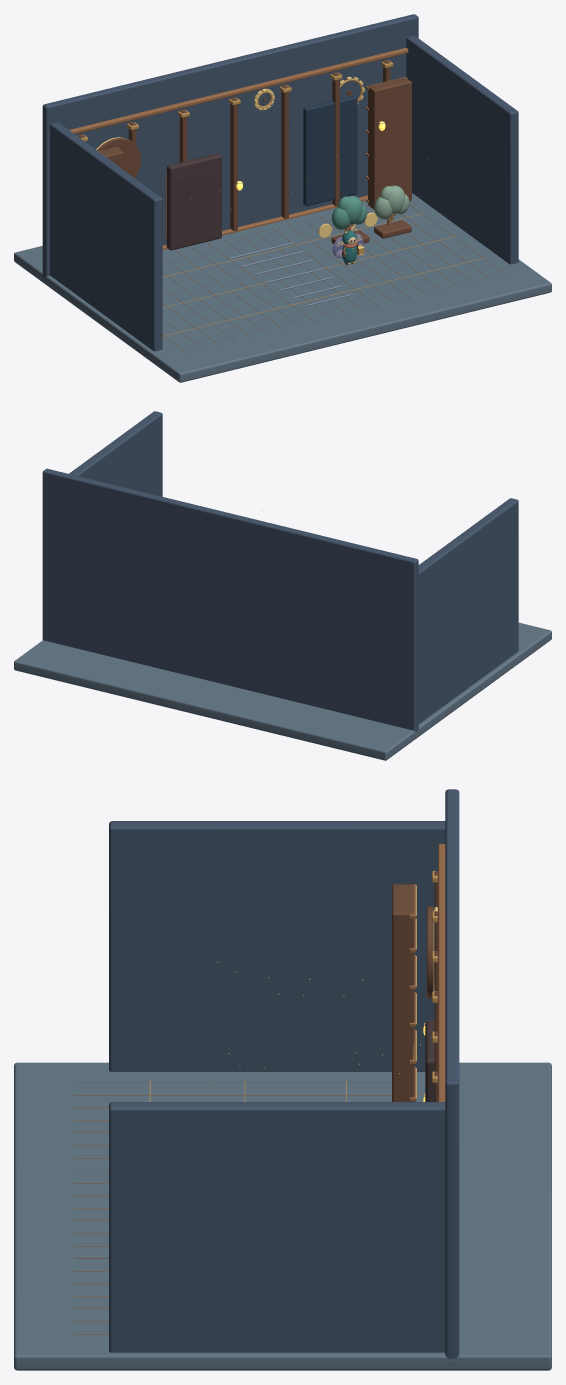
Rendered from moon_archive.glb.
3 renders of one model, top to bottom at view 1: azimuth 30°, elevation 25°; view 2: azimuth 150°, elevation 25°; view 3: azimuth 270°, elevation 25°, orthographic. The views are drawn at different scales.
Parts seen in each view (by area): view 1: Archive floor, Rear wall, Left side wall, Right side wall, Tall storm window recess, Tall archive bookcase.001, Monumental door shadow, Carved wall rail.001, Tall wall pilaster.004, Tall wall pilaster.003, Clock dark backing, Tall wall pilaster.005 (+2 smaller); view 2: Rear wall, Archive floor, Left side wall, Right side wall; view 3: Right side wall, Left side wall, Archive floor, Rear wall, Tall archive bookcase, Carved wall rail.001, Monumental door shadow.
Part boxes in pixels (x1,y1,x2,y2): Archive floor: (14,193,551,382); Rear wall: (42,14,418,280); Left side wall: (50,122,162,351); Right side wall: (406,35,518,264); Tall storm window recess: (303,95,357,206); Tall archive bookcase.001: (368,77,411,209); Monumental door shadow: (166,153,221,250); Carved wall rail.001: (69,47,408,134); Tall wall pilaster.004: (281,84,288,218); Tall wall pilaster.003: (230,97,237,230); Clock dark backing: (97,138,140,177); Tall wall pilaster.005: (332,72,339,206); Rear wall: (42,468,418,731); Archive floor: (14,622,551,760); Left side wall: (418,498,518,723); Right side wall: (69,411,162,496); Right side wall: (109,1102,445,1352); Left side wall: (109,821,445,1071); Archive floor: (14,1062,551,1370); Rear wall: (445,789,459,1365); Tall archive bookcase: (392,884,414,1101); Carved wall rail.001: (438,844,445,1101); Monumental door shadow: (425,1020,434,1101).
Size of the model in its own units: 22 by 10.08 by 17.
